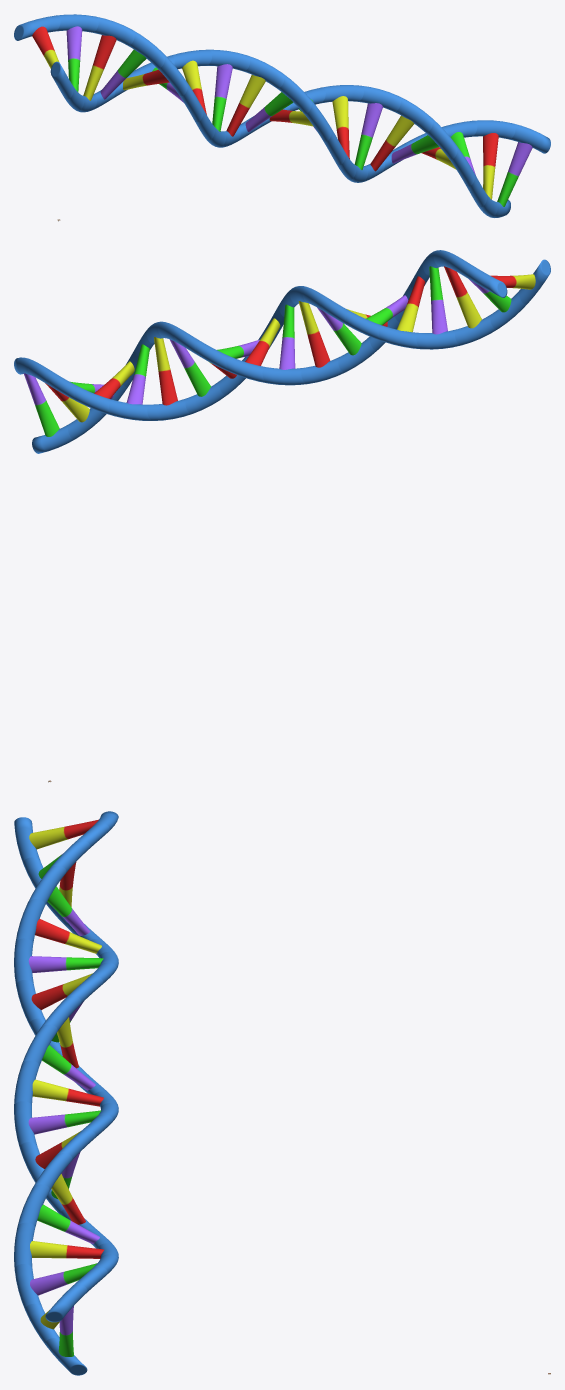
The model's file is litmus2.glb.
The picture shows the model from 3 angles, top to bottom: view 1: azimuth 30°, elevation 25°; view 2: azimuth 150°, elevation 25°; view 3: azimuth 270°, elevation 25°; orthographic projection. The views are drawn at different scales.
Visible parts, largest first — view 1: DNA; view 2: DNA; view 3: DNA.
Boxes of the visible parts, x1,y1,x2,y2 form: DNA: [14, 14, 550, 217]; DNA: [14, 250, 550, 453]; DNA: [14, 811, 118, 1375].
Size of the model in its own units: 3772 by 2879 by 3170.
36 materials, 6 textured.
